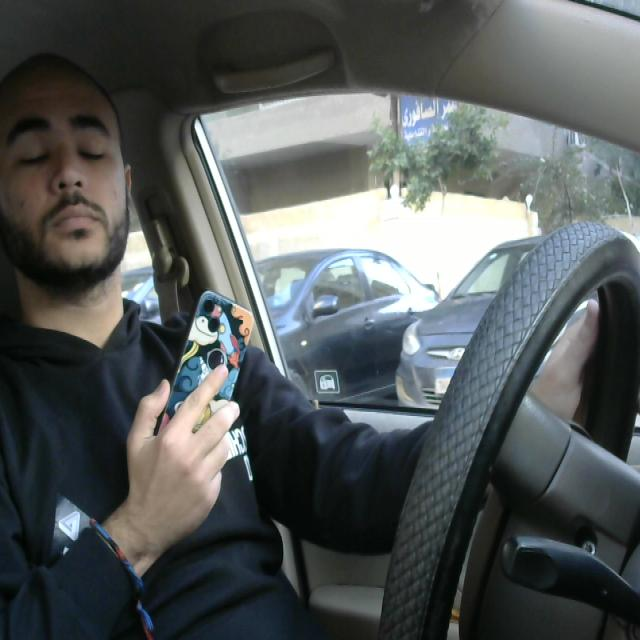mobile use: (147, 288, 258, 460)
